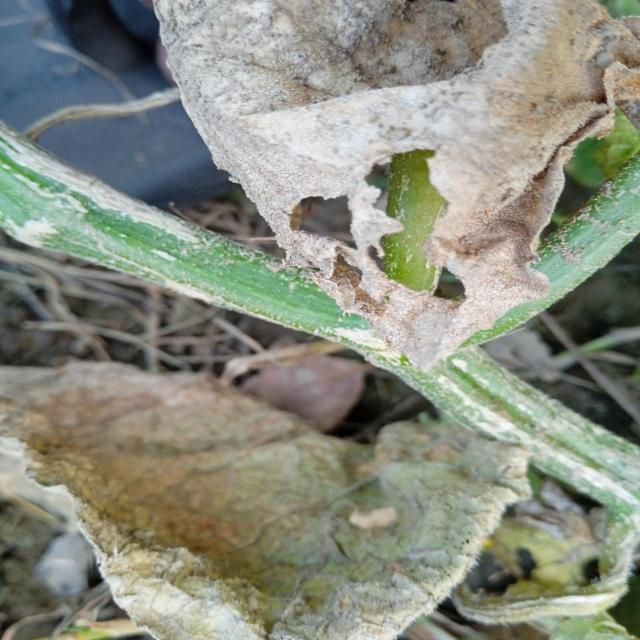cucumber_bacterial: (147, 2, 634, 340), (0, 369, 540, 640)
